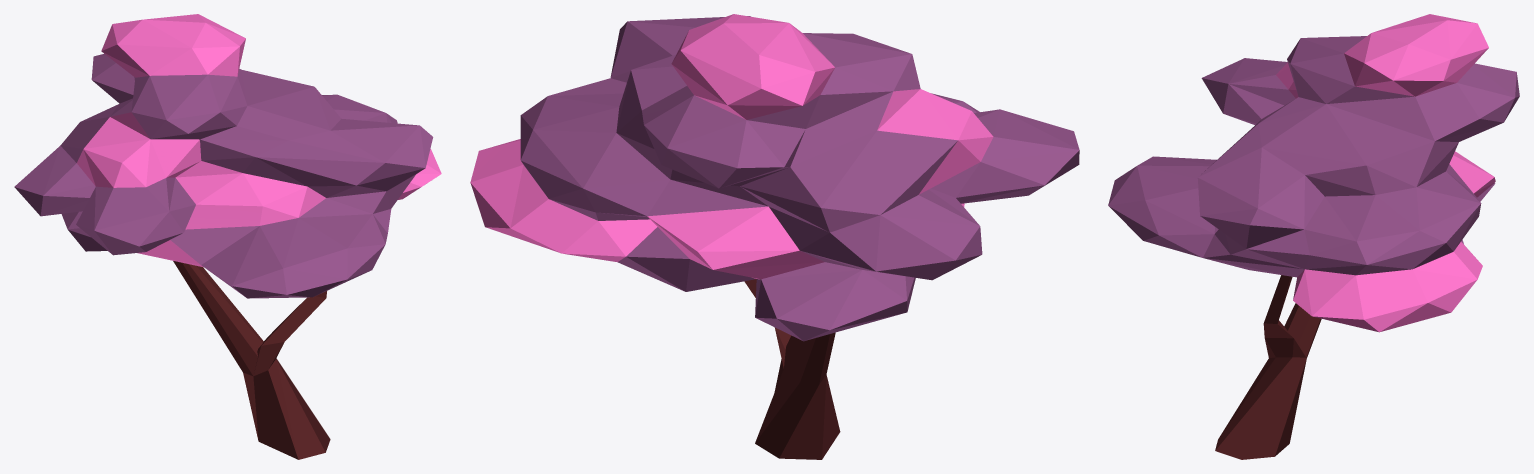
The model's file is Sakura.fbx.
3 renders of one model, left to right at view 1: azimuth 30°, elevation 25°; view 2: azimuth 150°, elevation 25°; view 3: azimuth 270°, elevation 25°, orthographic. The views are drawn at different scales.
Parts seen in each view (by area): view 1: Sacura; view 2: Sacura; view 3: Sacura.
Boxes of the visible parts, bbox=[...] form: Sacura: bbox=[14, 14, 441, 459]; Sacura: bbox=[470, 14, 1079, 459]; Sacura: bbox=[1108, 14, 1519, 459].
Size of the model in its own units: 881 by 798 by 755.
